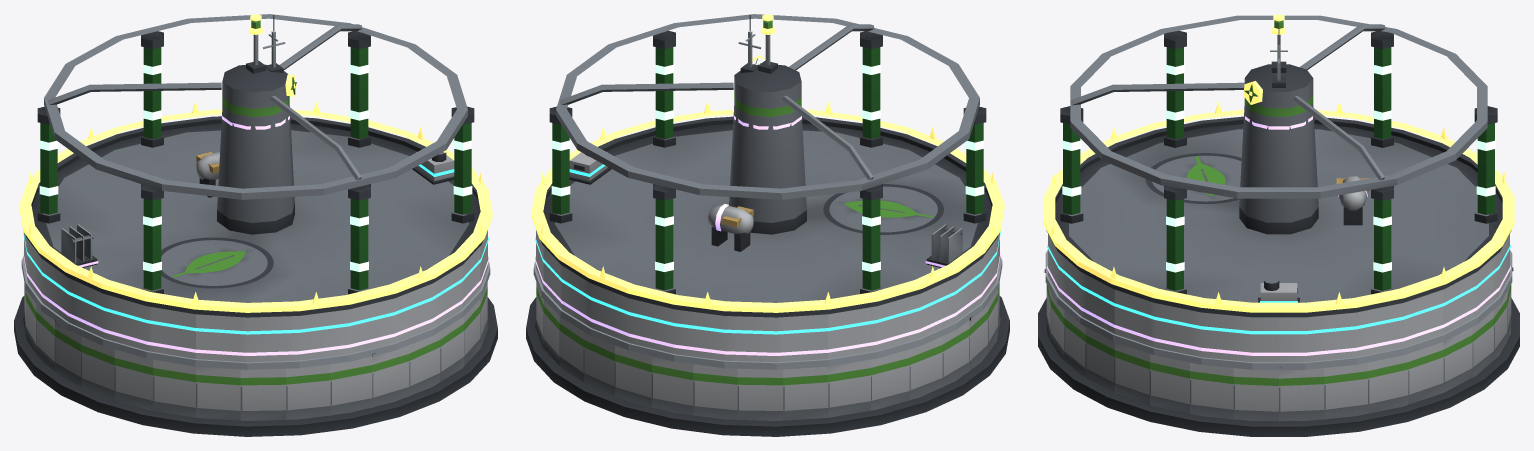
Rendered from algae_bioreactor_s_far.glb.
The picture shows the model from 3 angles, left to right: view 1: azimuth 30°, elevation 25°; view 2: azimuth 150°, elevation 25°; view 3: azimuth 270°, elevation 25°; orthographic projection.
Visible parts, largest first — view 1: Roof, Base, L5, L2, L4, L3; view 2: Roof, Base, L5, L4, L2, L3; view 3: Roof, Base, L5, L2, L4, L3.
Boxes of the visible parts, x1,y1,x2,y2 form: Roof: [24, 14, 487, 362]; Base: [14, 282, 497, 436]; L5: [19, 14, 492, 312]; L2: [21, 15, 490, 369]; L4: [23, 116, 488, 355]; L3: [23, 152, 488, 334]; Roof: [536, 14, 999, 362]; Base: [526, 282, 1009, 436]; L5: [531, 14, 1004, 312]; L4: [535, 116, 1000, 355]; L2: [533, 15, 1002, 369]; L3: [535, 146, 1000, 334]; Roof: [1046, 15, 1511, 362]; Base: [1038, 267, 1519, 436]; L5: [1043, 14, 1514, 312]; L2: [1045, 28, 1512, 369]; L4: [1047, 116, 1510, 355]; L3: [1047, 244, 1510, 334].
Size of the model in its own units: 10.53 by 7.68 by 10.53.
